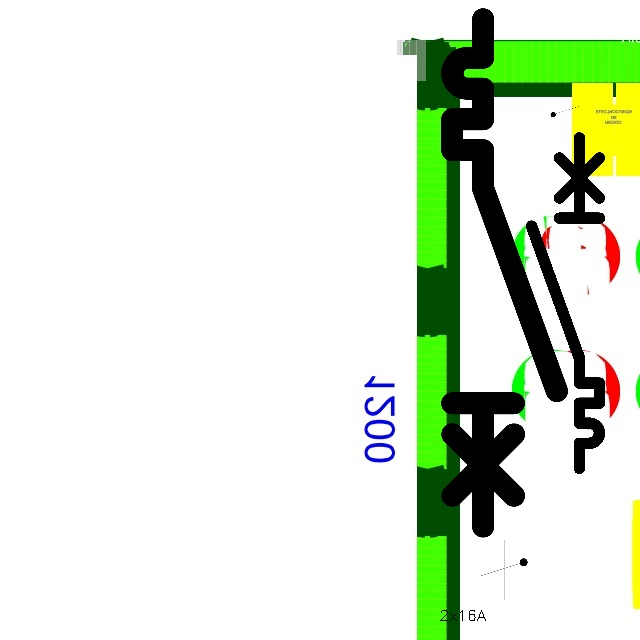interruptor_termomagnetico: (439, 6, 569, 540), (523, 129, 608, 477)
